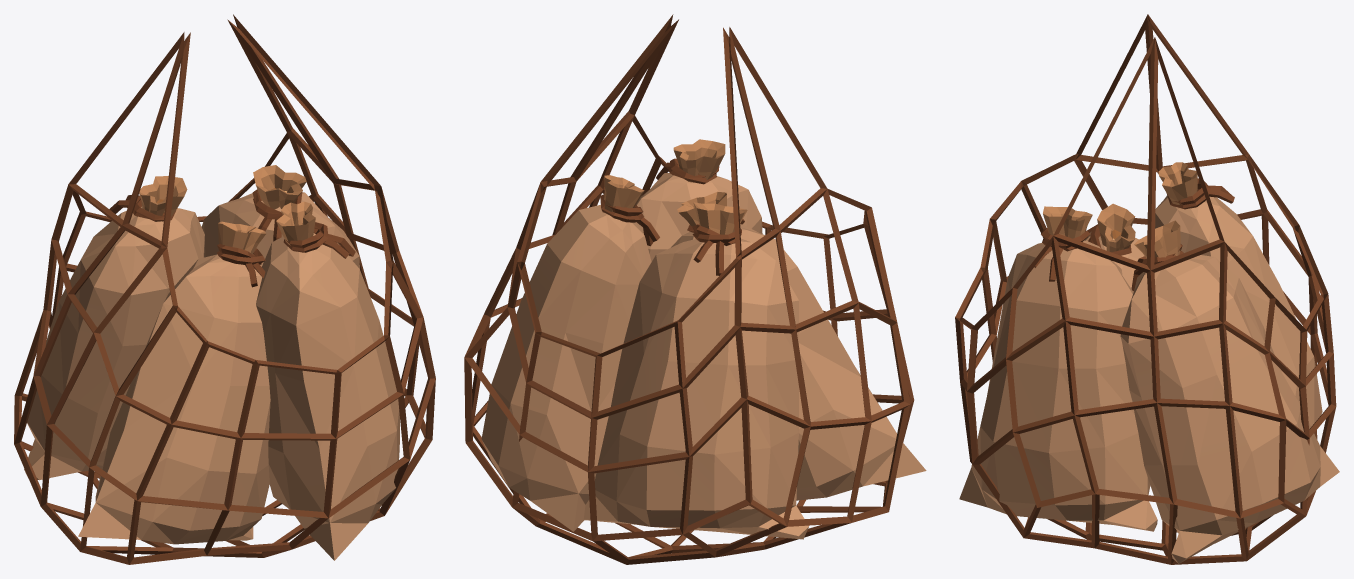
The model's file is Saquitos.fbx.
The picture shows the model from 3 angles, left to right: view 1: azimuth 30°, elevation 25°; view 2: azimuth 150°, elevation 25°; view 3: azimuth 270°, elevation 25°; orthographic projection. The views are drawn at different scales.
Parts seen in each view (by area): view 1: Cube, prop_bag_tied, prop_bag_tied__1_, prop_bag_tied__2_, prop_bag_tied__3_; view 2: Cube, prop_bag_tied__2_, prop_bag_tied__3_, prop_bag_tied, prop_bag_tied__1_; view 3: Cube, prop_bag_tied__3_, prop_bag_tied__1_, prop_bag_tied__2_, prop_bag_tied.
Boxes of the visible parts, x1,y1,x2,y2 form: Cube: (14, 14, 435, 564); prop_bag_tied: (78, 221, 270, 544); prop_bag_tied__1_: (256, 201, 399, 560); prop_bag_tied__2_: (24, 176, 204, 480); prop_bag_tied__3_: (201, 165, 359, 268); Cube: (464, 14, 914, 564); prop_bag_tied__2_: (583, 202, 808, 539); prop_bag_tied__3_: (481, 175, 659, 531); prop_bag_tied: (671, 191, 926, 500); prop_bag_tied__1_: (635, 139, 762, 261); Cube: (955, 14, 1336, 564); prop_bag_tied__3_: (1120, 220, 1339, 563); prop_bag_tied__1_: (959, 206, 1157, 531); prop_bag_tied__2_: (1155, 162, 1322, 426); prop_bag_tied: (1084, 203, 1144, 291).
Bounding box in the file's own units: 1.07 × 1.49 × 1.01.
